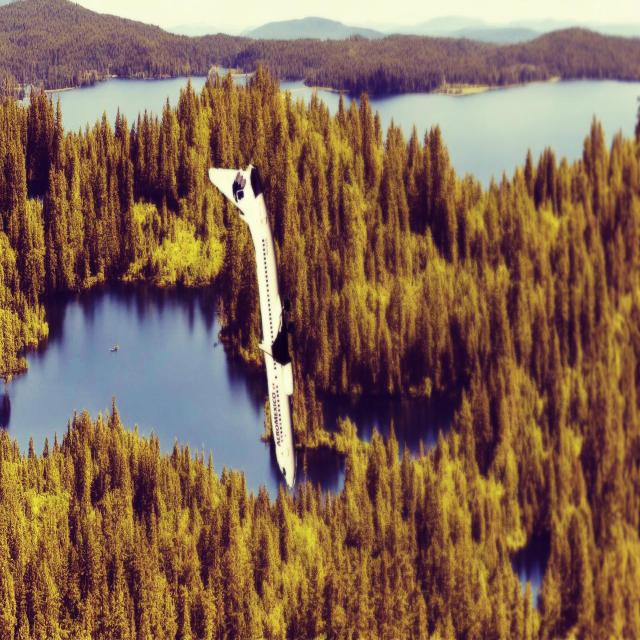airplane: (207, 163, 297, 488)
